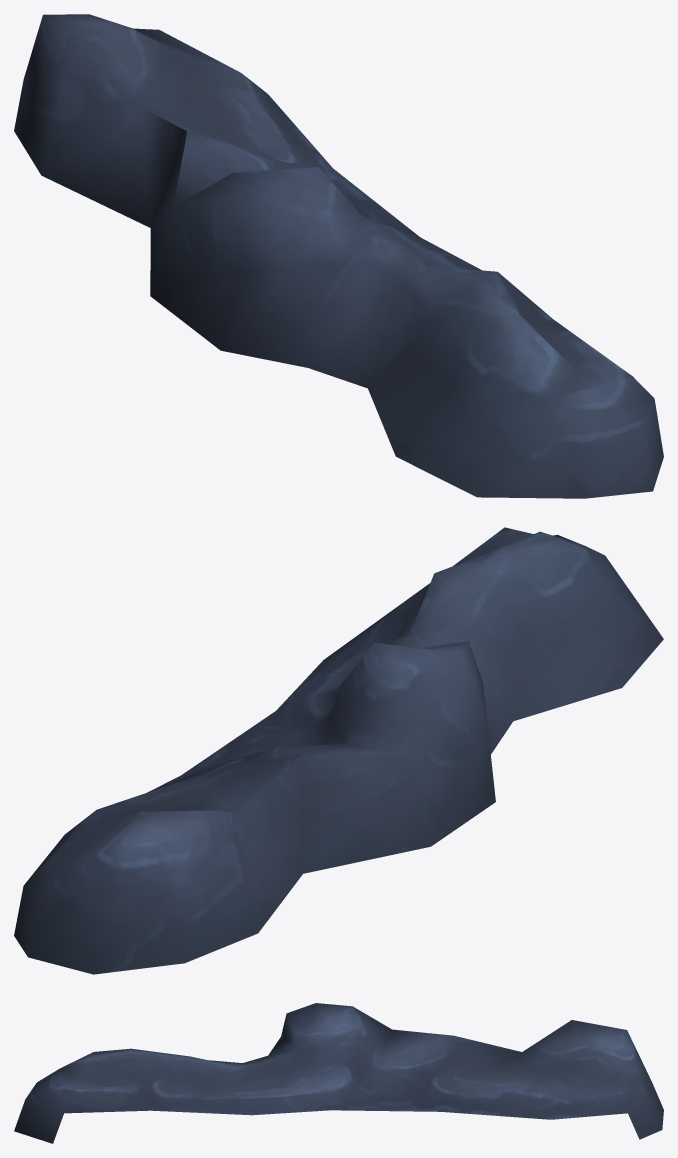
Rendered from lm_rock_04.fbx.
The picture shows the model from 3 angles, top to bottom: view 1: azimuth 30°, elevation 25°; view 2: azimuth 150°, elevation 25°; view 3: azimuth 270°, elevation 25°; orthographic projection. The views are drawn at different scales.
Visible parts, largest first — view 1: lm_rock_04; view 2: lm_rock_04; view 3: lm_rock_04.
Part boxes in pixels (x1,y1,x2,y2): lm_rock_04: (14, 14, 663, 498); lm_rock_04: (14, 527, 663, 974); lm_rock_04: (14, 1003, 663, 1143).
Bounding box in the file's own units: 0.6038 × 0.3475 × 2.31.
